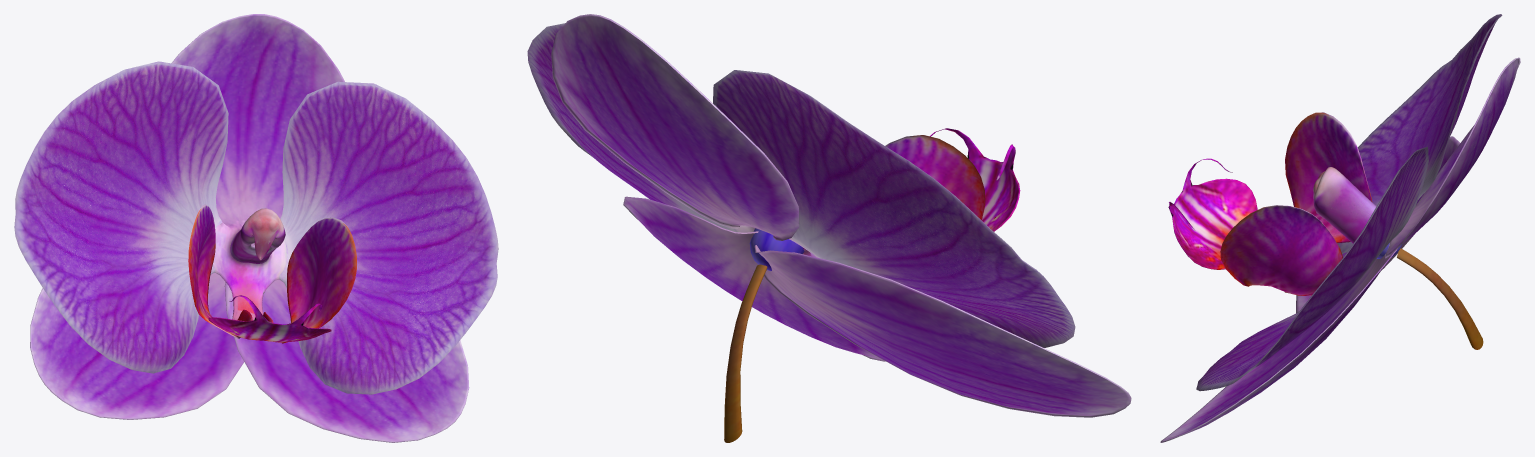
3 renders of one model, left to right at view 1: azimuth 30°, elevation 25°; view 2: azimuth 150°, elevation 25°; view 3: azimuth 270°, elevation 25°, orthographic. The views are drawn at different scales.
Visible parts, largest first — view 1: orchidmoth_pink_obj.105; view 2: orchidmoth_pink_obj.105; view 3: orchidmoth_pink_obj.105.
Part boxes in pixels (x1,y1,x2,y2): orchidmoth_pink_obj.105: [14, 14, 498, 442]; orchidmoth_pink_obj.105: [527, 14, 1131, 442]; orchidmoth_pink_obj.105: [1160, 14, 1520, 442].
Bounding box in the file's own units: 0.495 × 0.3567 × 0.3208.
Materials: 2 (2 with a texture image).
